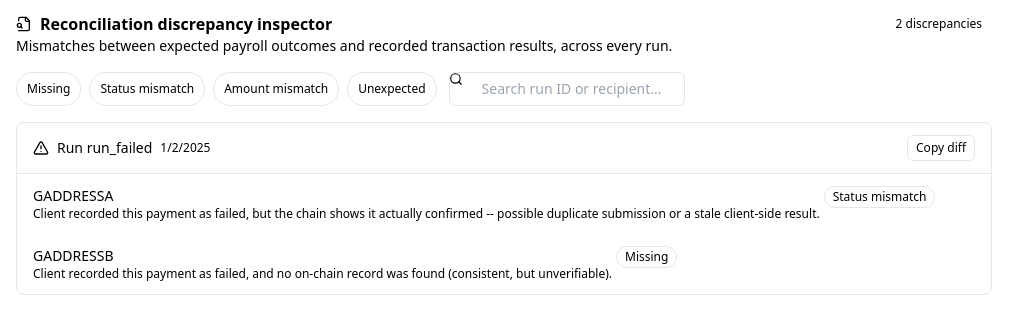
Test case: ReconciliationDiscrepancyInspector › filters by search term
Type "no-such-run" into the search field with placeholder "Search run ID or recipient…" at (567, 89), box [449, 72, 685, 106]
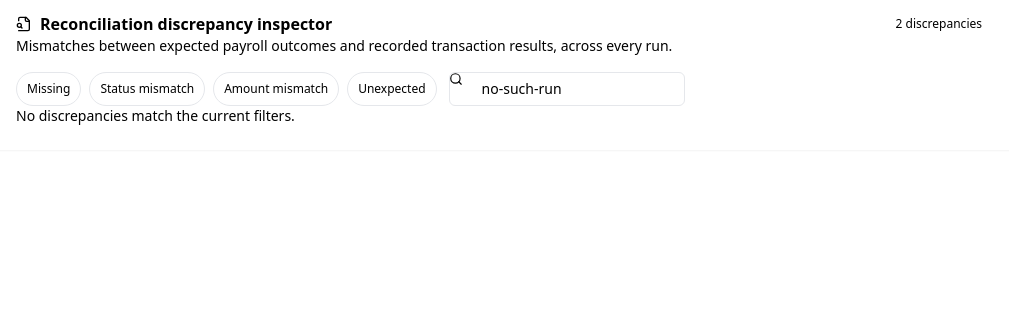
Expected: the text "No discrepancies match the current filters." is shown, [16, 106, 295, 125]
